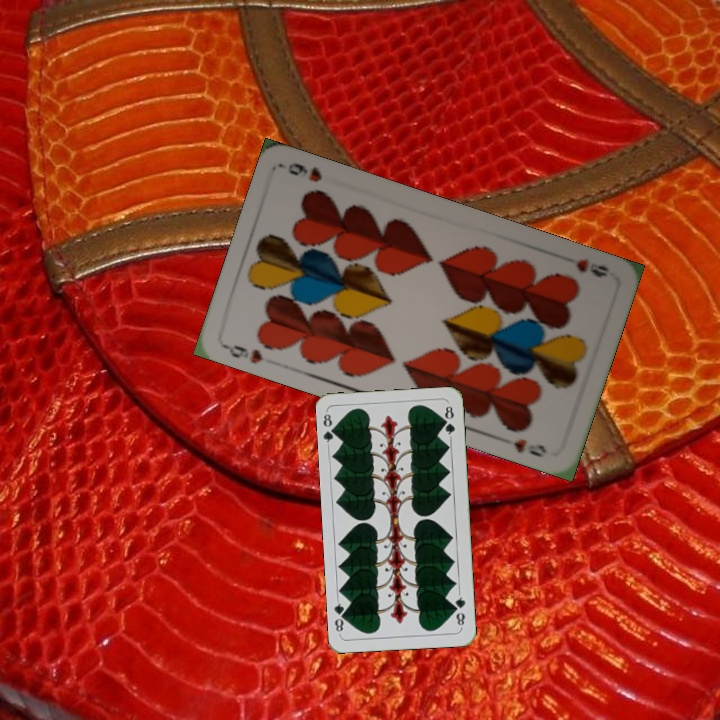G8: (319, 408, 340, 449), (450, 590, 468, 630)
H9: (221, 341, 266, 367), (572, 254, 611, 281)
